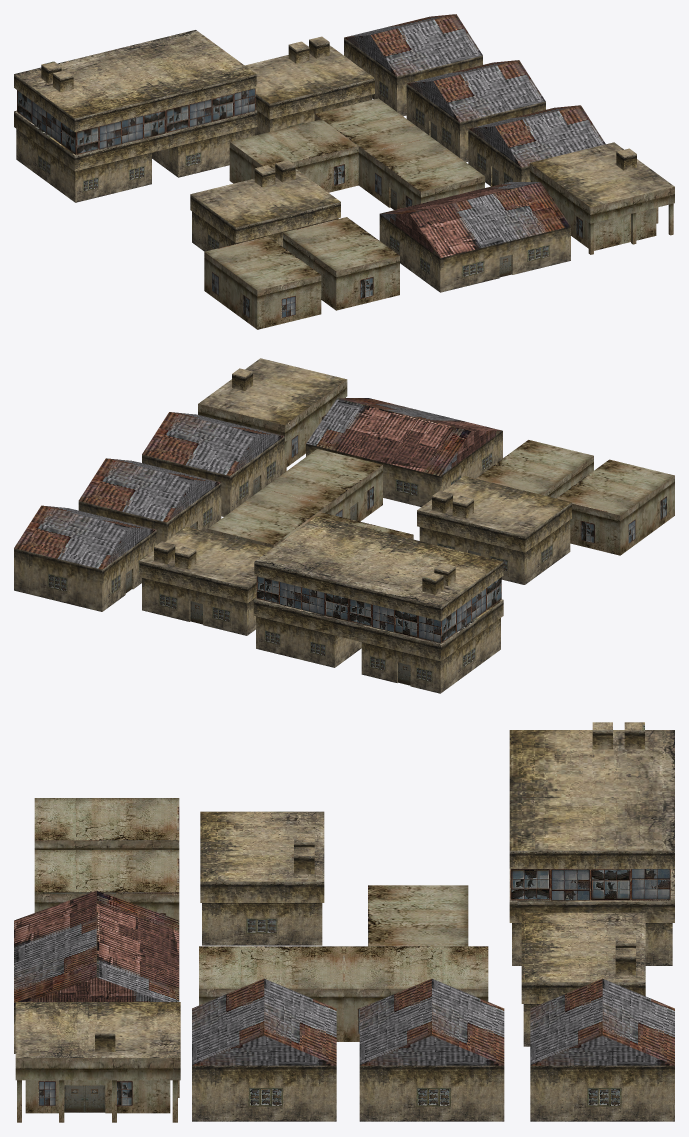
File: MogBlk08.glb
3 views of the same model, one above another, from view 1: azimuth 30°, elevation 25°; view 2: azimuth 150°, elevation 25°; view 3: azimuth 270°, elevation 25° (orthographic). The views are drawn at different scales.
Parts seen in each view (by area): view 1: _MogBlk08; view 2: _MogBlk08; view 3: _MogBlk08.
Boxes of the visible parts, x1,y1,x2,y2 form: _MogBlk08: (14, 14, 674, 329); _MogBlk08: (14, 358, 674, 693); _MogBlk08: (14, 722, 674, 1122).
Bounding box in the file's own units: 63.58 × 14.36 × 64.
2 materials, 2 textured.
